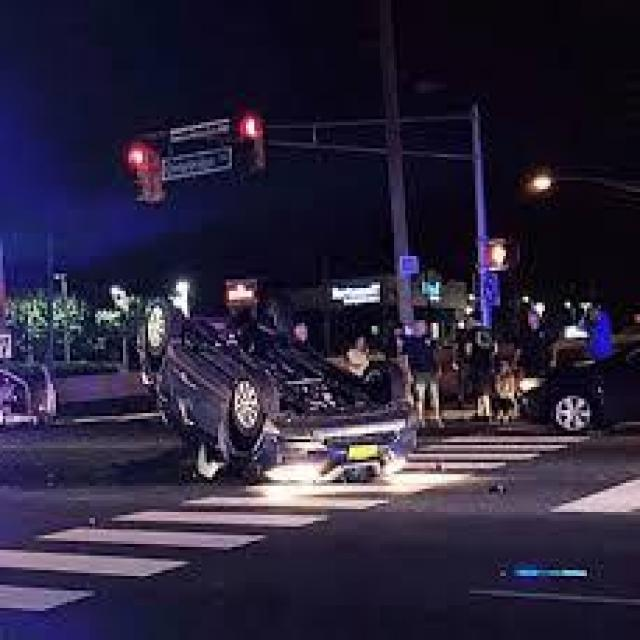accident: (150, 303, 420, 480)
